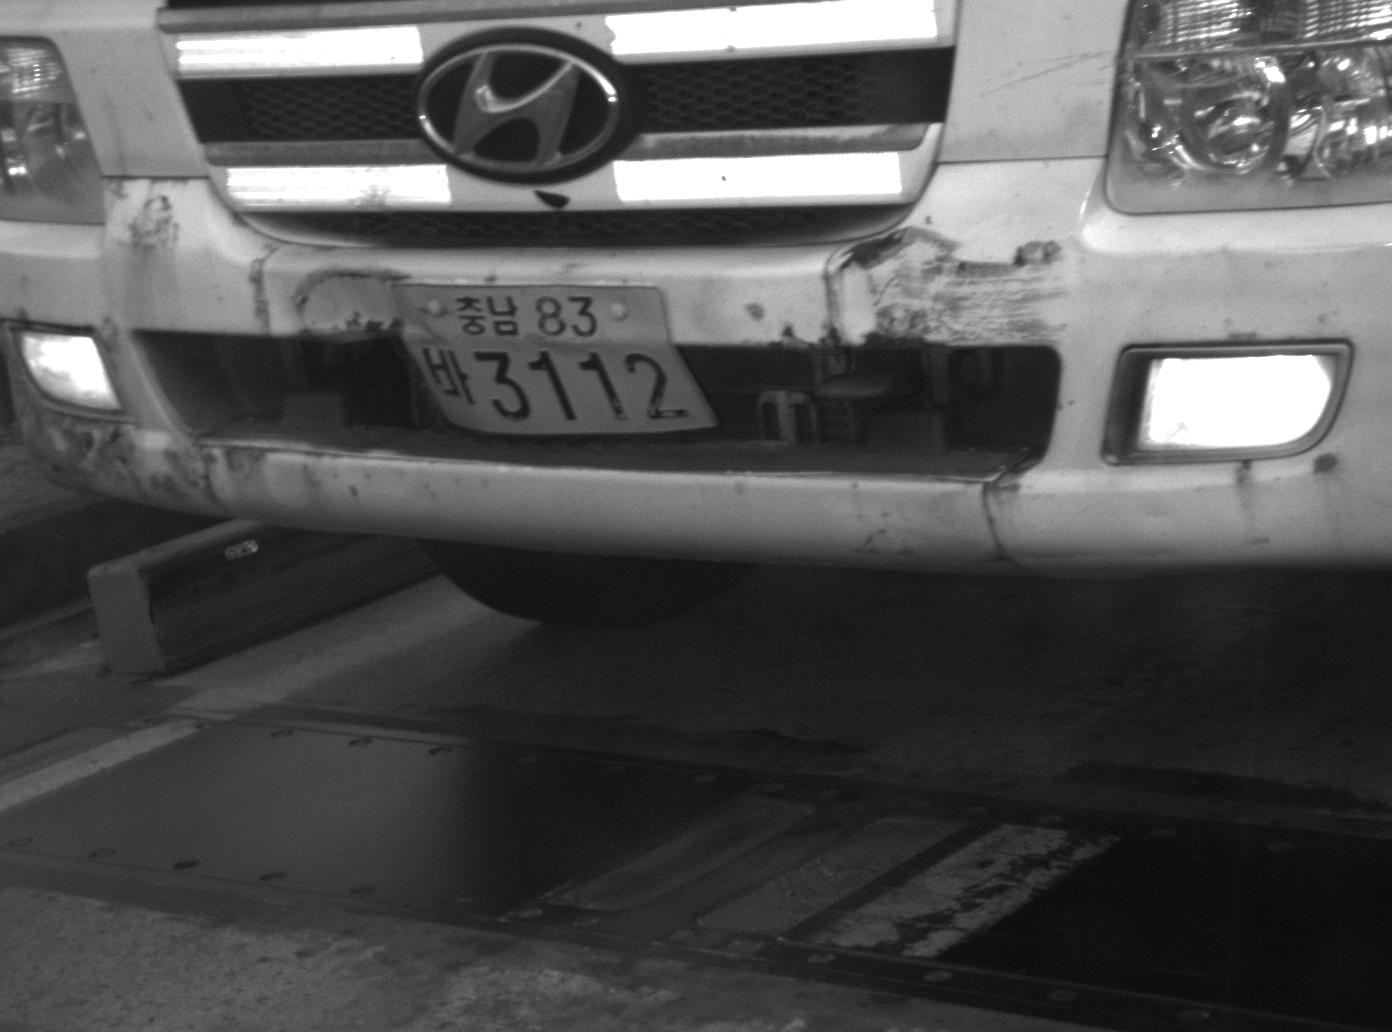car: (1, 1, 1389, 630)
plate: (388, 279, 722, 441)
